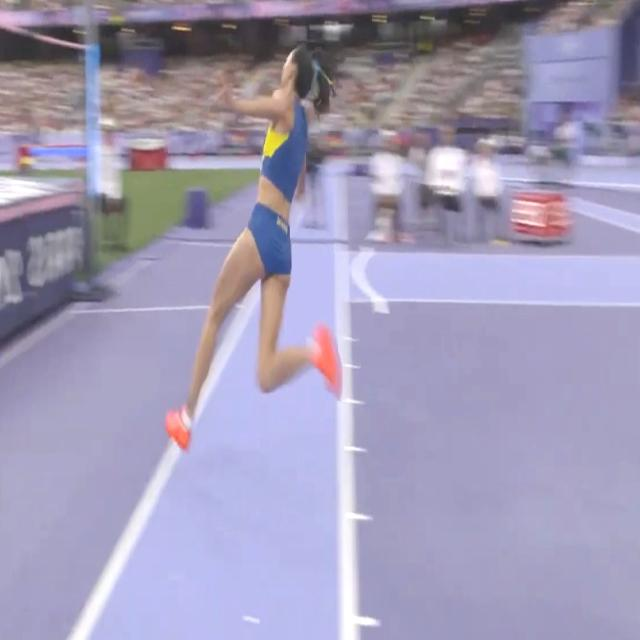run: (166, 50, 342, 452)
